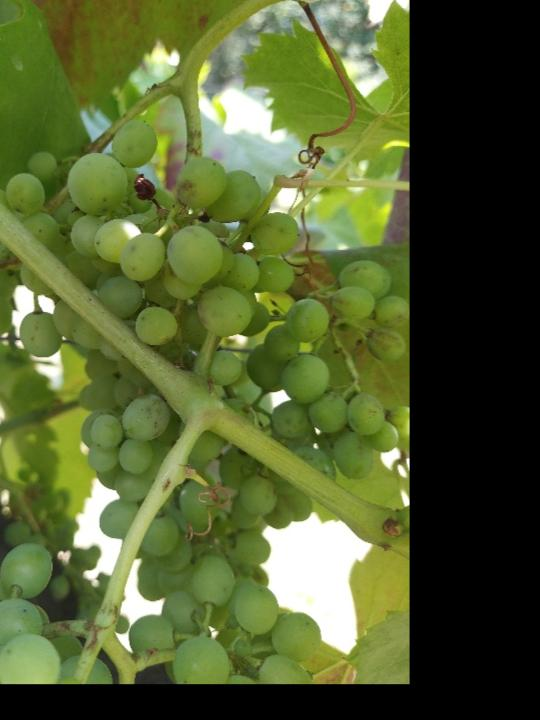grape: (0, 121, 406, 617)
